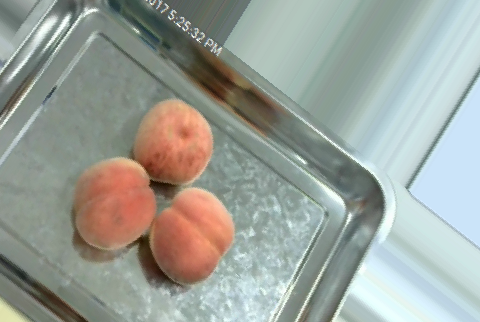Peach: (149, 186, 234, 285), (71, 156, 156, 251), (133, 97, 213, 184)
